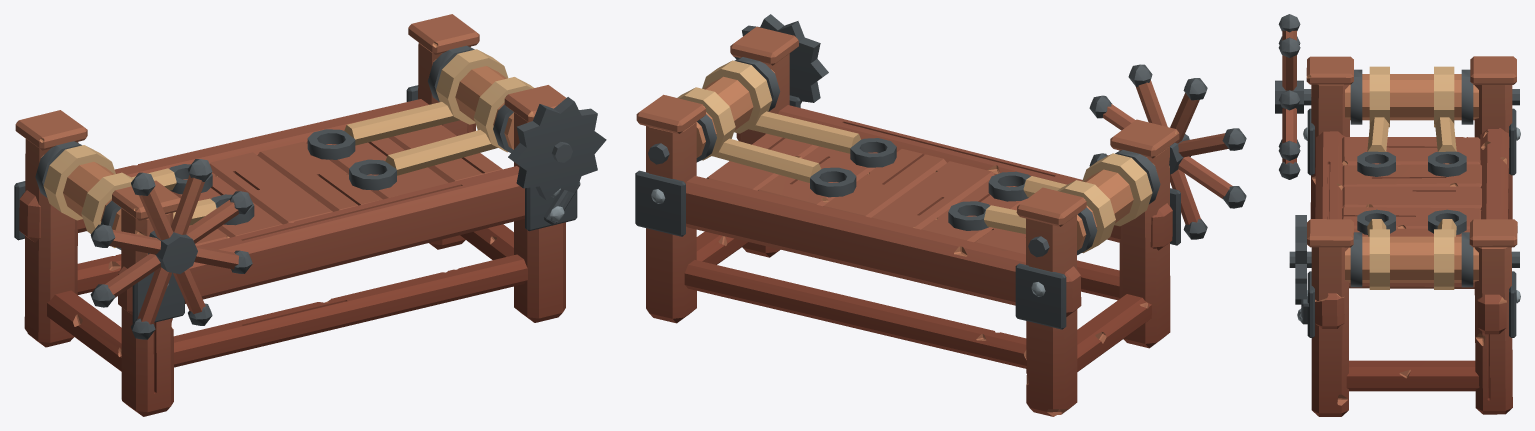
Rendered from torture_rack.glb.
The picture shows the model from 3 angles, left to right: view 1: azimuth 30°, elevation 25°; view 2: azimuth 150°, elevation 25°; view 3: azimuth 270°, elevation 25°; orthographic projection. The views are drawn at different scales.
Parts seen in each view (by area): view 1: torture_rack; view 2: torture_rack; view 3: torture_rack.
Part boxes in pixels (left/top/right/bottom): torture_rack: left=14, top=14, right=606, bottom=416; torture_rack: left=635, top=14, right=1246, bottom=416; torture_rack: left=1275, top=14, right=1520, bottom=416.
Size of the model in its own units: 3.49 by 1.69 by 1.69.
1 material, 1 textured.
